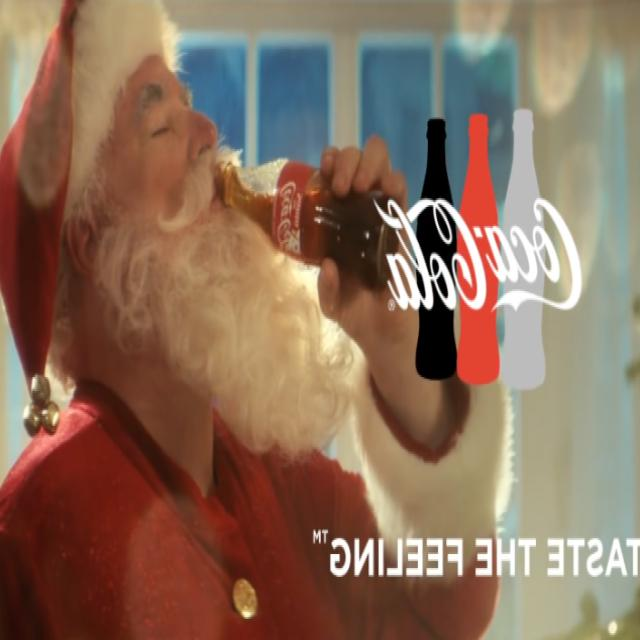coca cola: (368, 189, 586, 339)
